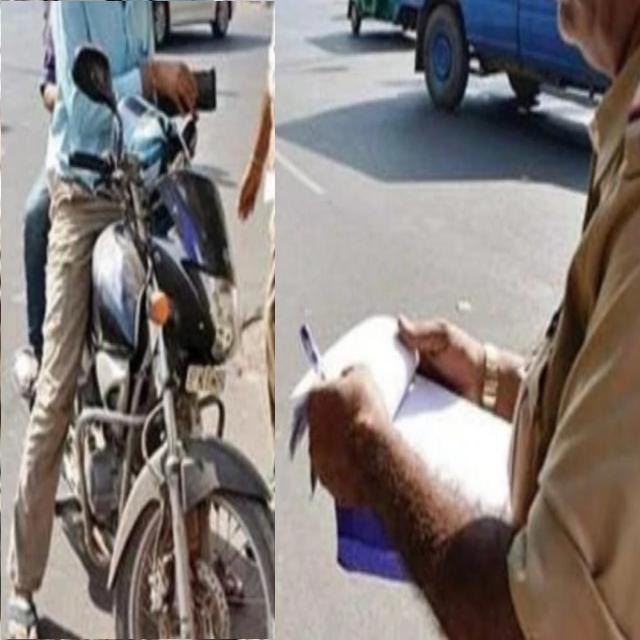motorcycle: (0, 2, 275, 639)
